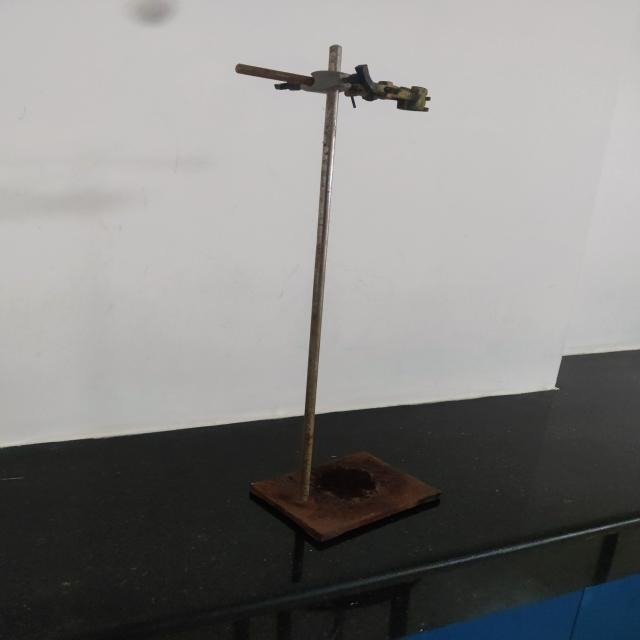Burette_Stands: (203, 15, 492, 582)
